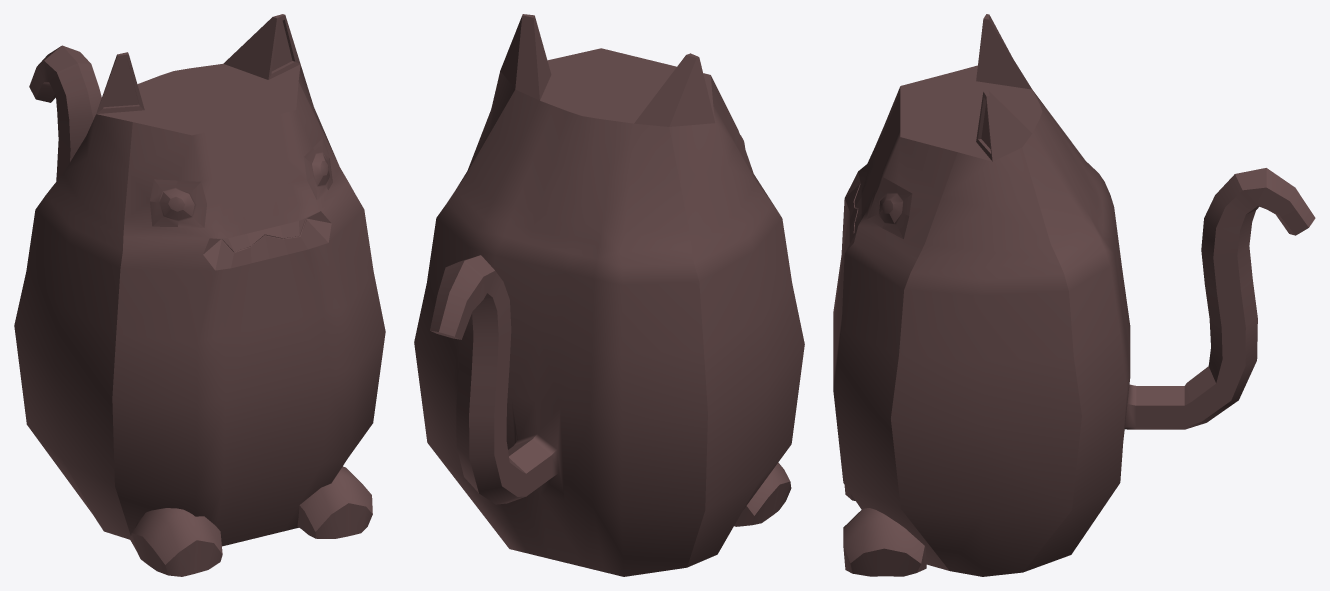
File: CatBrownIHope.fbx
3 views of the same model, side by side, from view 1: azimuth 30°, elevation 25°; view 2: azimuth 150°, elevation 25°; view 3: azimuth 270°, elevation 25° (orthographic). The views are drawn at different scales.
Visible parts, largest first — view 1: pCylinder2; view 2: pCylinder2; view 3: pCylinder2.
Boxes of the visible parts, x1=… form: pCylinder2: x1=14, y1=14, x2=385, y2=576; pCylinder2: x1=414, y1=14, x2=804, y2=576; pCylinder2: x1=833, y1=14, x2=1315, y2=576.
Size of the model in its own units: 9.39 by 14.24 by 13.12.
